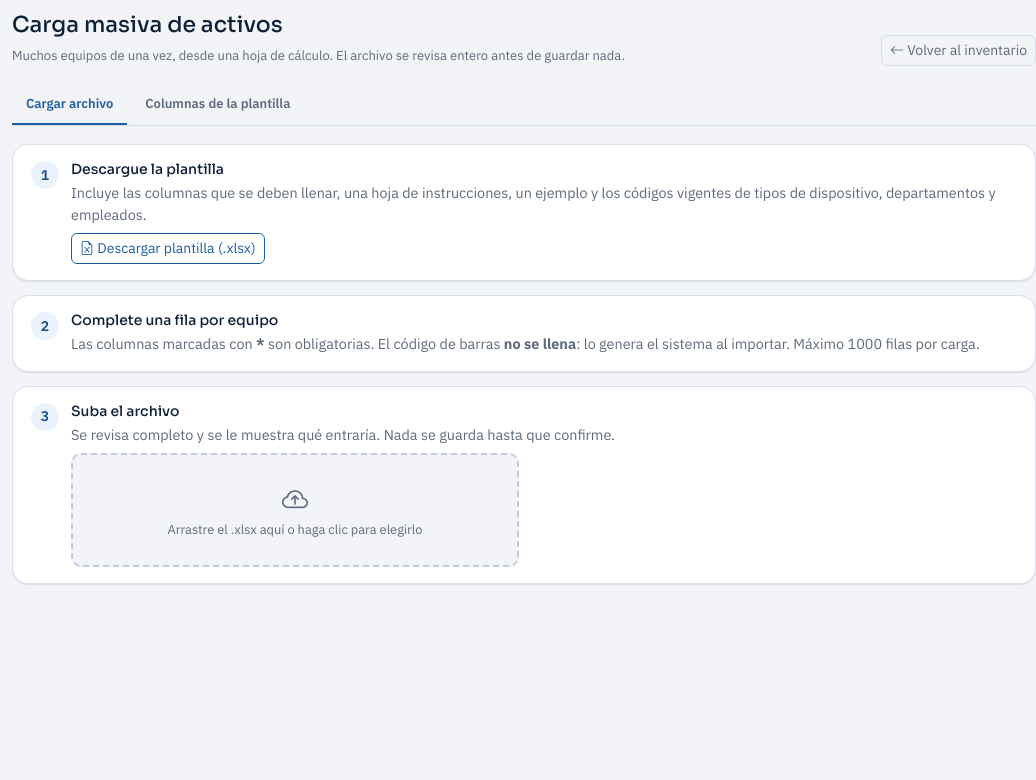
Test: La pantalla explica el flujo antes de pedir el archivo › si la plantilla no se puede bajar, lo dice
The width and height of the screenshot is (1036, 780).
Click the button "Descargar plantilla (.xlsx)".
click(168, 249)  # box [71,233,265,264]
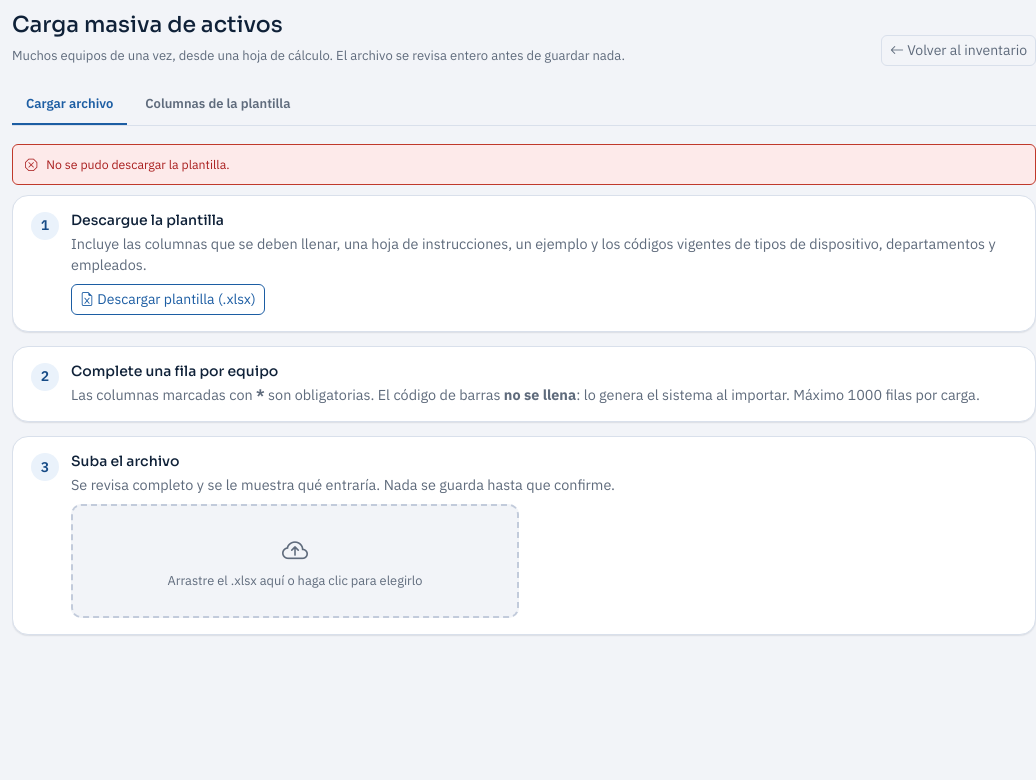
Expected: the text "No se pudo descargar la plantilla." is shown, [12,144,1035,185]
